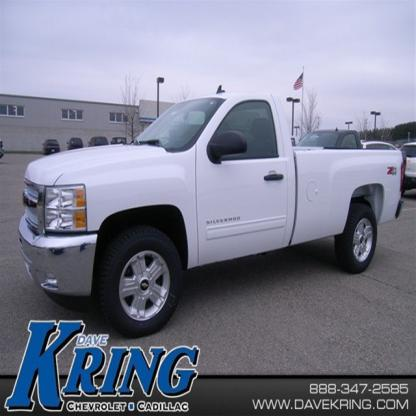Vehicle: (18, 85, 406, 338)
